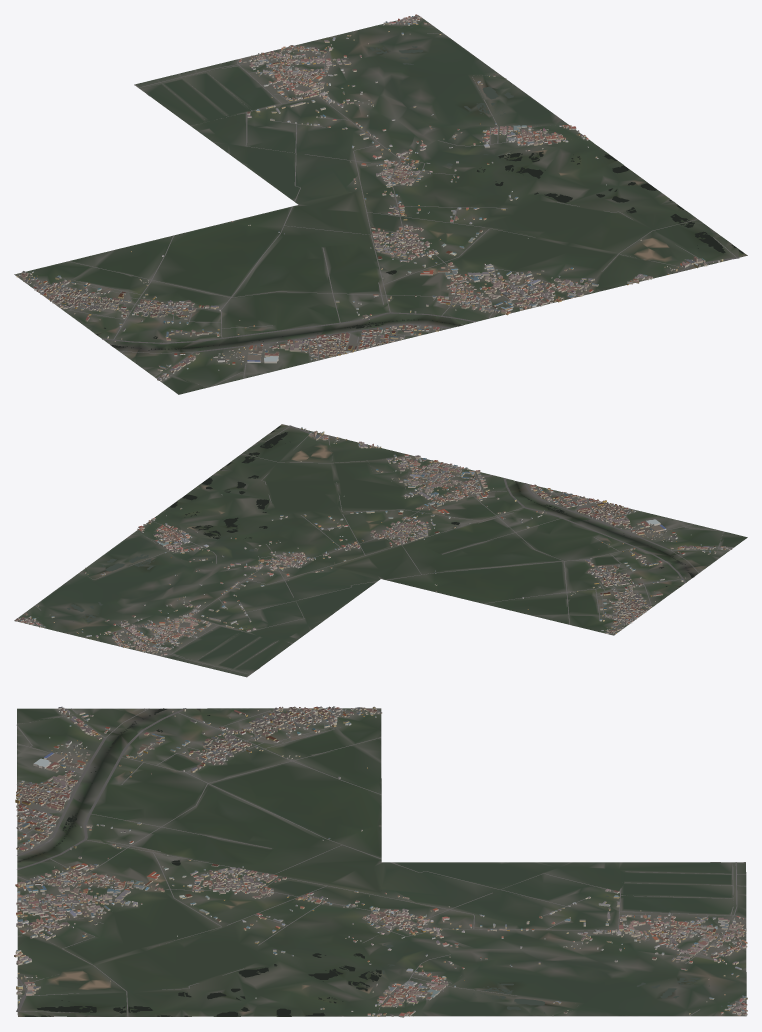
3 views of the same model, one above another, from view 1: azimuth 30°, elevation 25°; view 2: azimuth 150°, elevation 25°; view 3: azimuth 270°, elevation 25° (orthographic). The views are drawn at different scales.
Parts seen in each view (by area): view 1: ground, buildings, roads, water; view 2: ground, buildings, roads, water; view 3: ground, buildings, roads, water.
Part boxes in pixels (bbox=[...]): ground: bbox=[14, 15, 747, 394]; buildings: bbox=[16, 14, 723, 380]; roads: bbox=[27, 17, 739, 386]; water: bbox=[96, 26, 743, 350]; ground: bbox=[14, 424, 747, 676]; buildings: bbox=[15, 427, 732, 655]; roads: bbox=[16, 425, 729, 677]; water: bbox=[37, 426, 694, 627]; ground: bbox=[17, 708, 746, 1016]; buildings: bbox=[14, 706, 747, 1017]; roads: bbox=[16, 708, 746, 1016]; water: bbox=[19, 708, 729, 1016].
Bounding box in the file's own units: 2820 × 28.26 × 2823.
